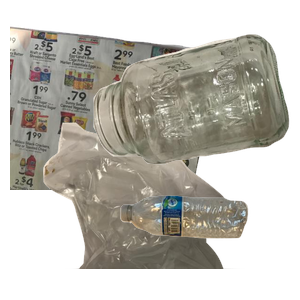glass: (91, 32, 300, 189)
paper: (10, 21, 222, 201)
plastic: (118, 193, 300, 300)
trash: (41, 120, 276, 300)
